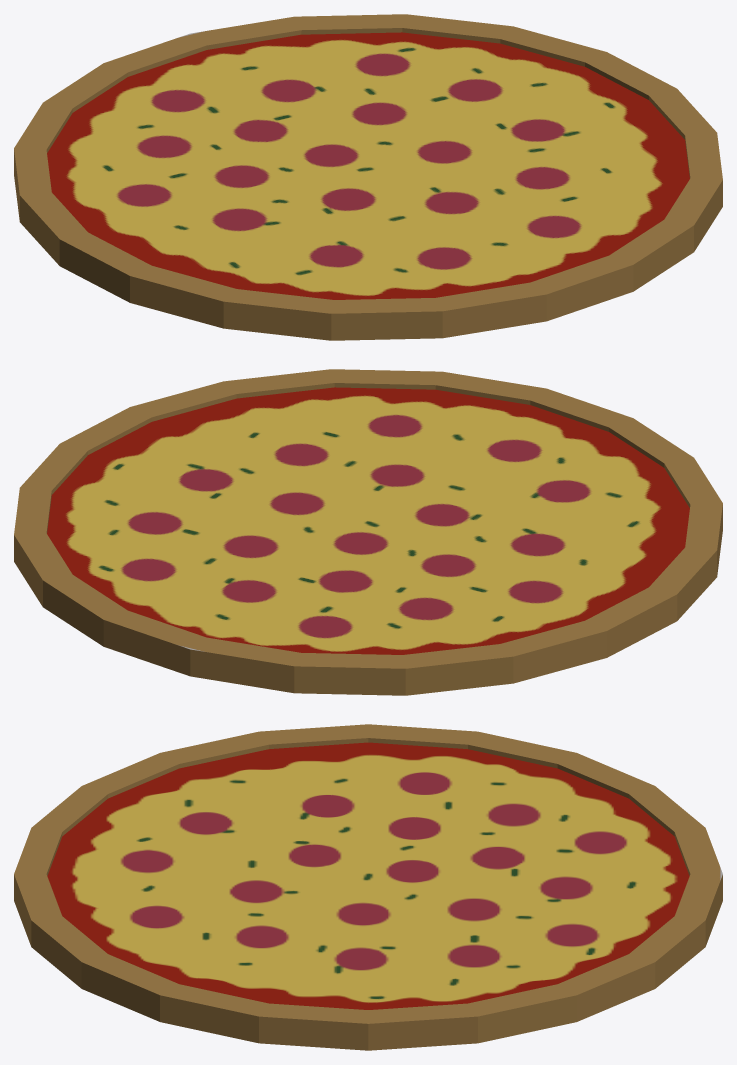
The model's file is Pizza.obj.
3 views of the same model, one above another, from view 1: azimuth 30°, elevation 25°; view 2: azimuth 150°, elevation 25°; view 3: azimuth 270°, elevation 25° (orthographic).
Visible parts, largest first — view 1: Pizza:pizza; view 2: Pizza:pizza; view 3: Pizza:pizza.
Boxes of the visible parts, x1=… form: Pizza:pizza: x1=14, y1=14, x2=722, y2=340; Pizza:pizza: x1=14, y1=369, x2=722, y2=695; Pizza:pizza: x1=14, y1=724, x2=722, y2=1050.
Bounding box in the file's own units: 2.21 × 0.0924 × 2.21.
1 material, 1 textured.
